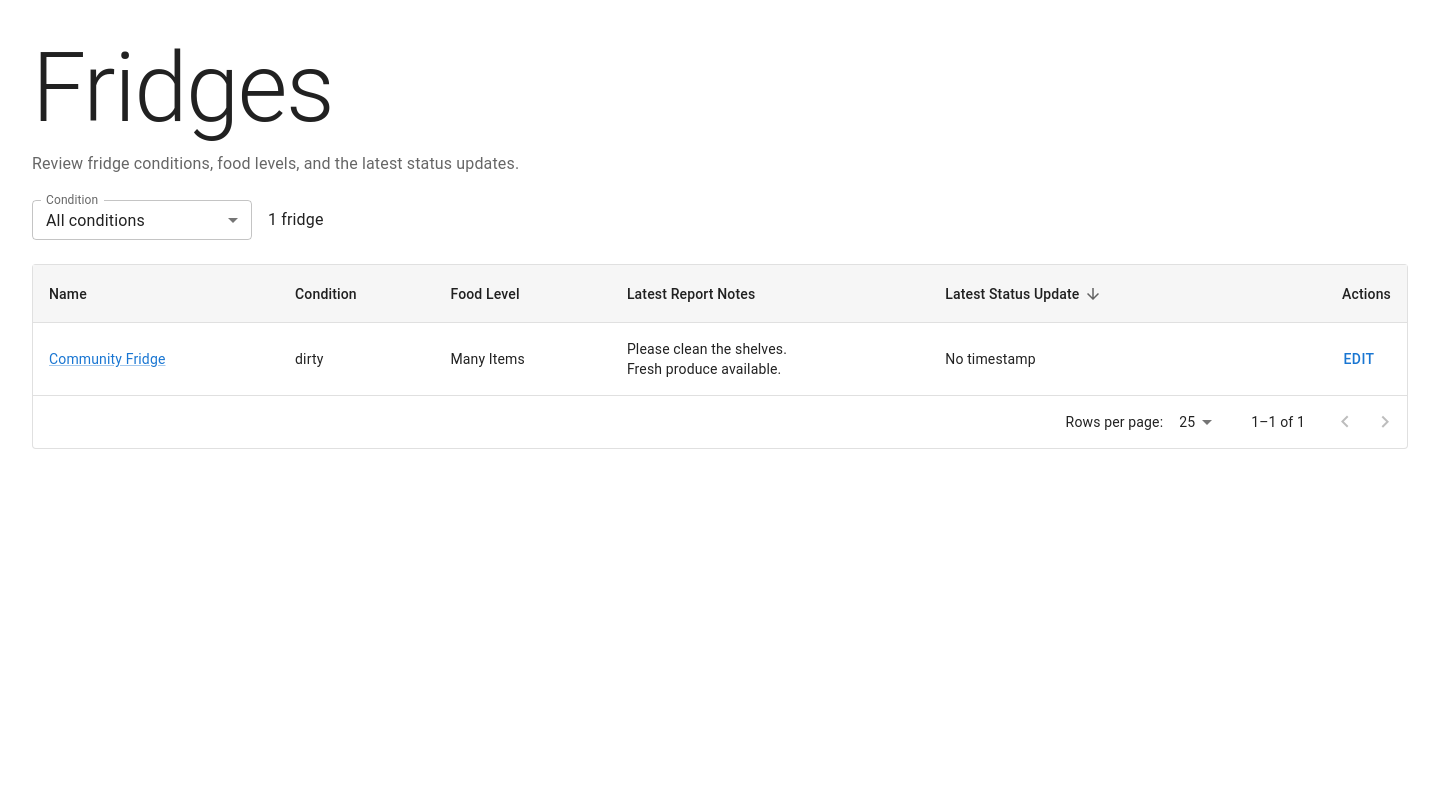
Test case: AdminFridgesPage › opens the selected fridge editor and updates the table after saving
The image size is (1440, 810).
expect the link "Community Fridge" is shown: met, box [49,351,166,367]
Click the button "Edit" at [1359, 359], box [1327,341,1391,378]
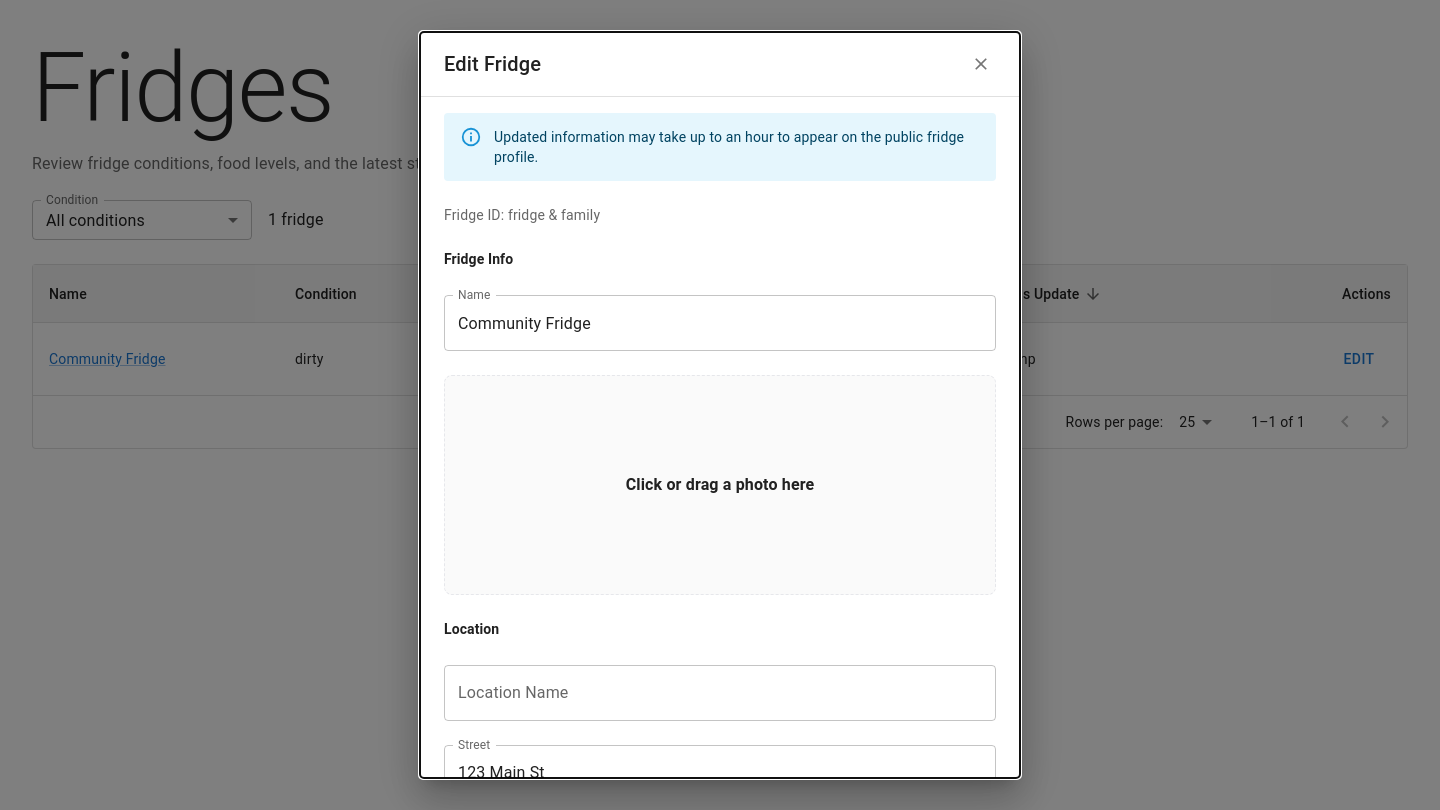
expect the dialog "Edit Fridge" is shown: met, box [420,32,1020,778]
Replace the text in the field labelled "Name" with "Updated Fridge" at [720, 323], box [444,295,996,351]
(page scrolled)
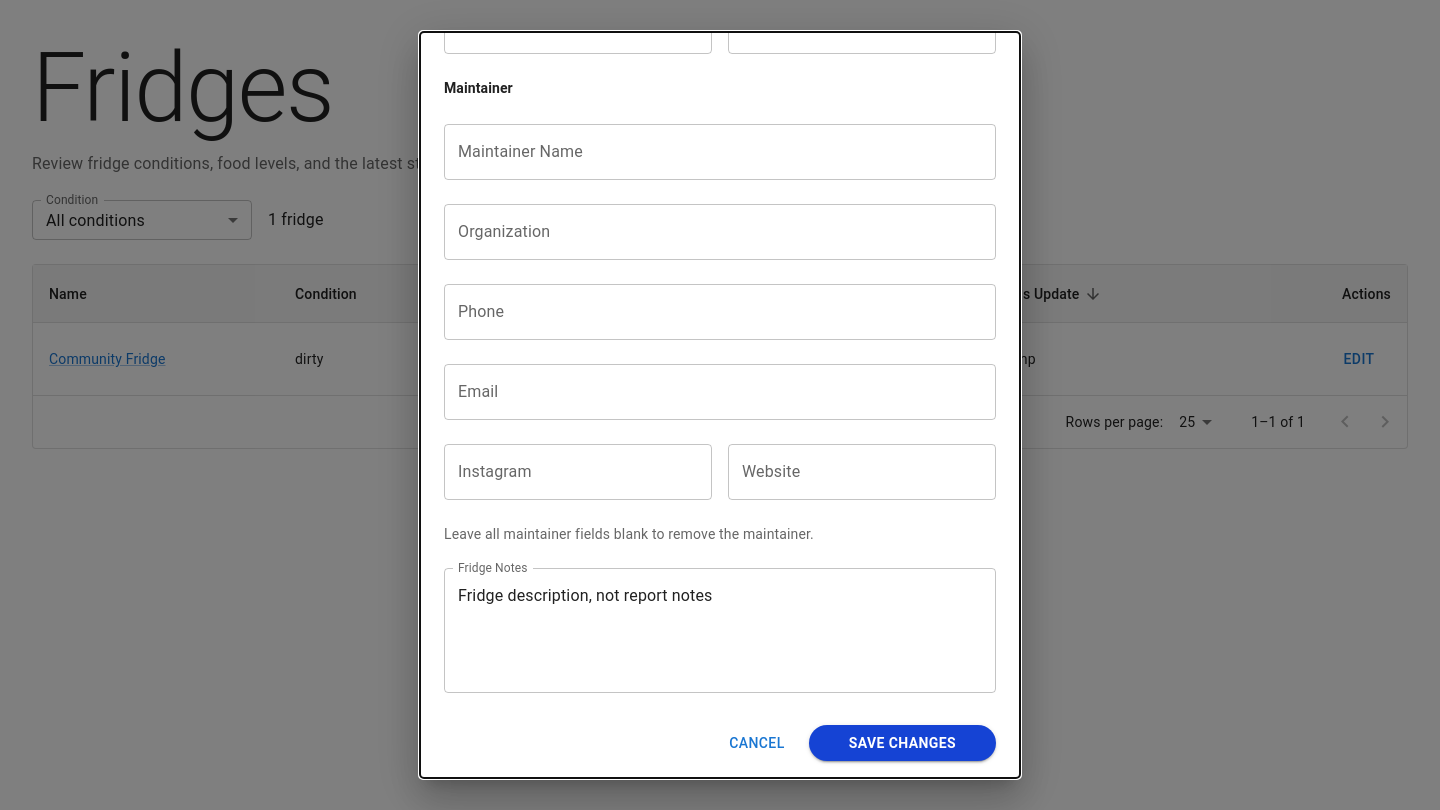
Click the button "Save Changes" at [902, 743], box [809,725,996,762]
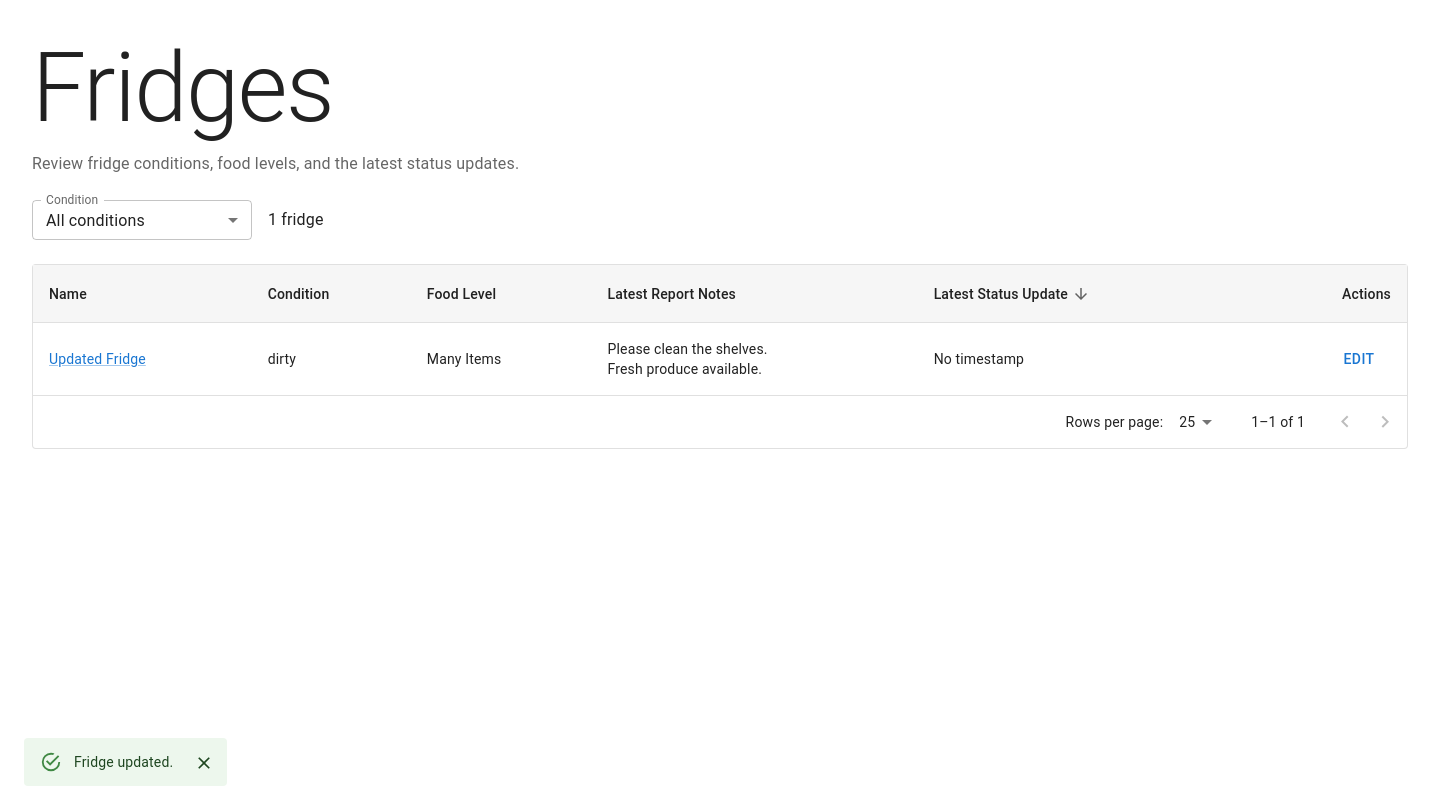
expect the text "dirty" is shown: met, box [252,323,411,396]
expect the dialog is gone: met
expect the text "Fridge updated." is shown: met, box [74,754,173,770]
